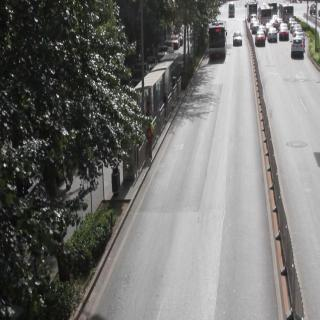BigCar: (207, 17, 231, 58)
Car: (291, 38, 306, 62), (227, 2, 242, 21), (252, 28, 266, 48), (231, 28, 244, 48), (264, 24, 279, 40), (171, 34, 185, 50), (280, 24, 292, 42)
